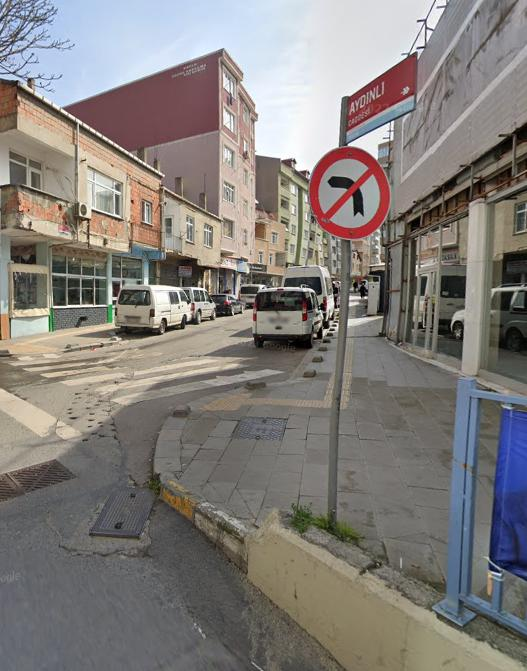leftturnsareforbidden: (307, 149, 391, 238)
